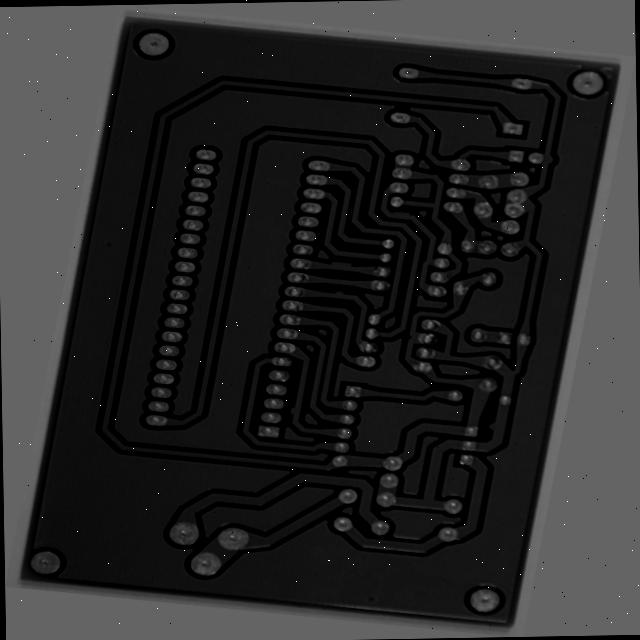spur: (376, 185, 409, 203), (314, 249, 349, 264), (547, 402, 573, 420), (301, 412, 322, 428), (327, 283, 348, 296)
